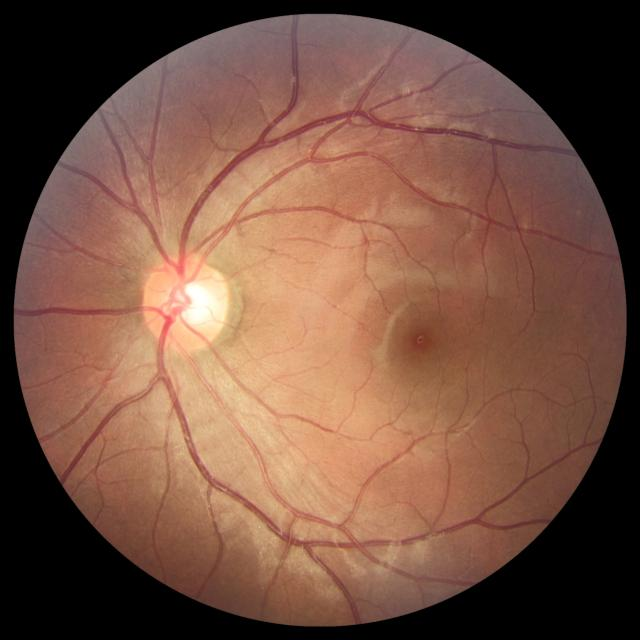OC: (167, 280, 216, 326)
OD: (140, 256, 229, 349)
